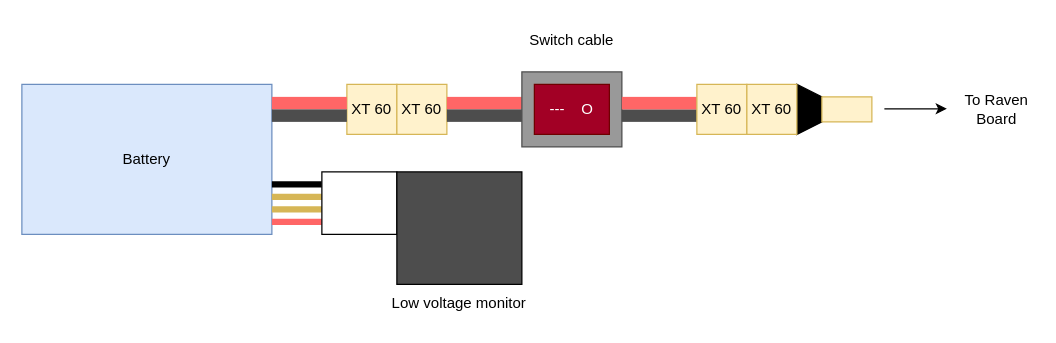
The diagram is 1056 pixels wide and 343 high, and some of its shapes have lost their labels. Here are the shapes that lost their labels. From the top down, the centre of each, then its label:
At point (846, 109): "XT 30".
At point (359, 202): "JST-XH".
At point (459, 227): "XXX".
